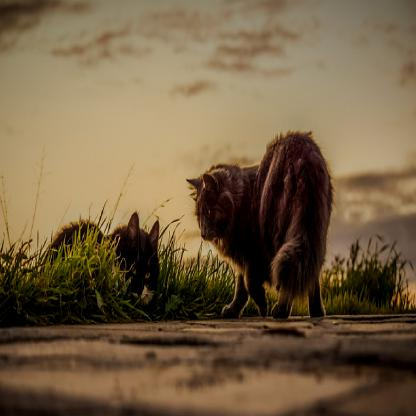cat: (188, 123, 335, 321), (127, 208, 161, 313)
